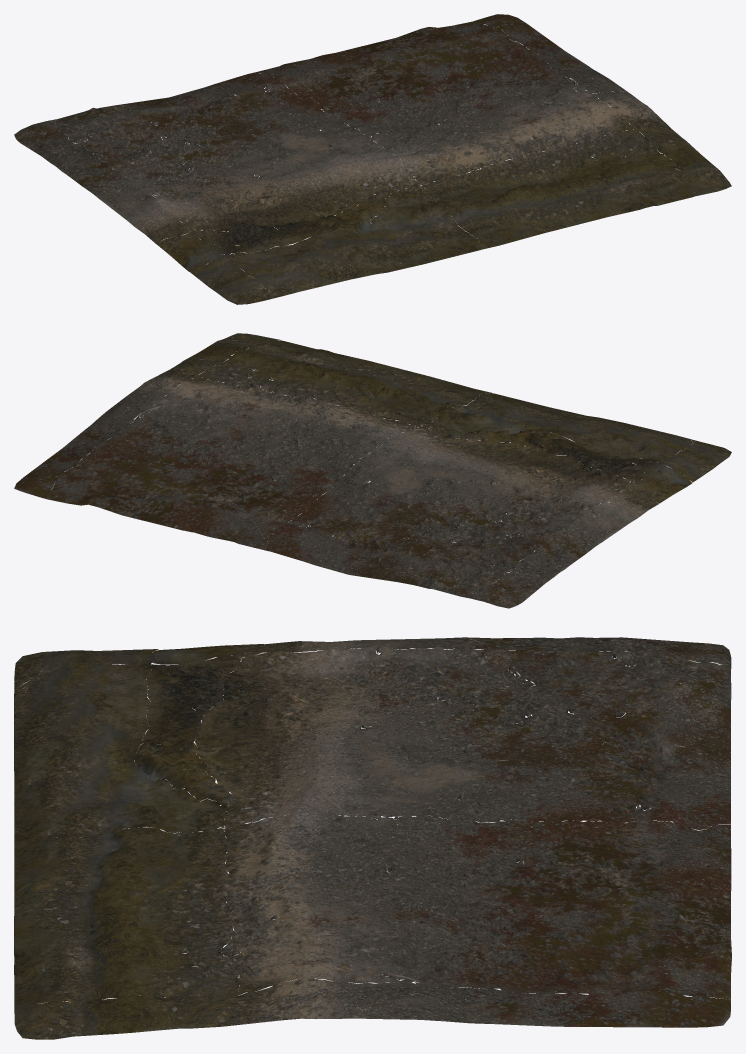
The model's file is shore_line.glb.
3 renders of one model, top to bottom at view 1: azimuth 30°, elevation 25°; view 2: azimuth 150°, elevation 25°; view 3: azimuth 270°, elevation 25°, orthographic. The views are drawn at different scales.
Parts seen in each view (by area): view 1: coast_line_01; view 2: coast_line_01; view 3: coast_line_01.
Boxes of the visible parts, box(x1,y1,x2,y2) form: coast_line_01: box(14, 14, 731, 304); coast_line_01: box(14, 333, 731, 608); coast_line_01: box(14, 637, 731, 1039).
Size of the model in its own units: 54.6 by 2.55 by 42.96.
1 material, 1 textured.
